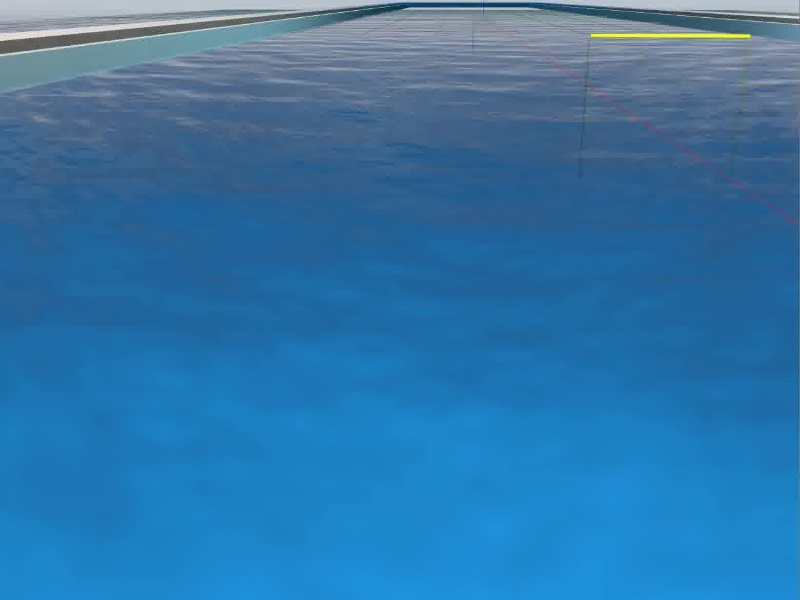gate: (578, 32, 752, 179)
